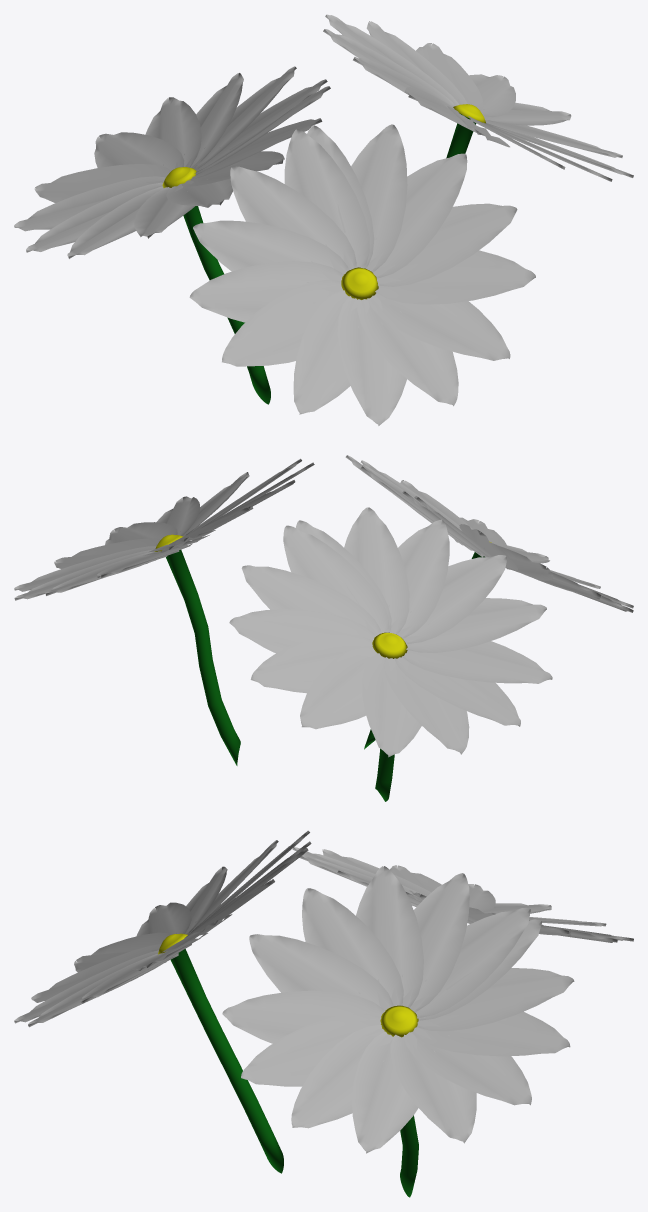
The model's file is Margaritas.glb.
3 renders of one model, top to bottom at view 1: azimuth 30°, elevation 25°; view 2: azimuth 150°, elevation 25°; view 3: azimuth 270°, elevation 25°, orthographic. The views are drawn at different scales.
Parts seen in each view (by area): view 1: Circle.002, Circle, Circle.001; view 2: Circle, Circle.001, Circle.002; view 3: Circle.001, Circle.002, Circle.
Boxes of the visible parts, x1=… form: Circle.002: x1=189, y1=124, x2=535, y2=425; Circle: x1=14, y1=66, x2=330, y2=404; Circle.001: x1=323, y1=14, x2=633, y2=181; Circle: x1=229, y1=507, x2=552, y2=801; Circle.001: x1=14, y1=458, x2=314, y2=765; Circle.002: x1=345, y1=455, x2=633, y2=749; Circle.001: x1=222, y1=866, x2=574, y2=1197; Circle.002: x1=14, y1=830, x2=311, y2=1173; Circle: x1=292, y1=847, x2=633, y2=942.
Bounding box in the file's own units: 14.17 × 8 × 13.8.
